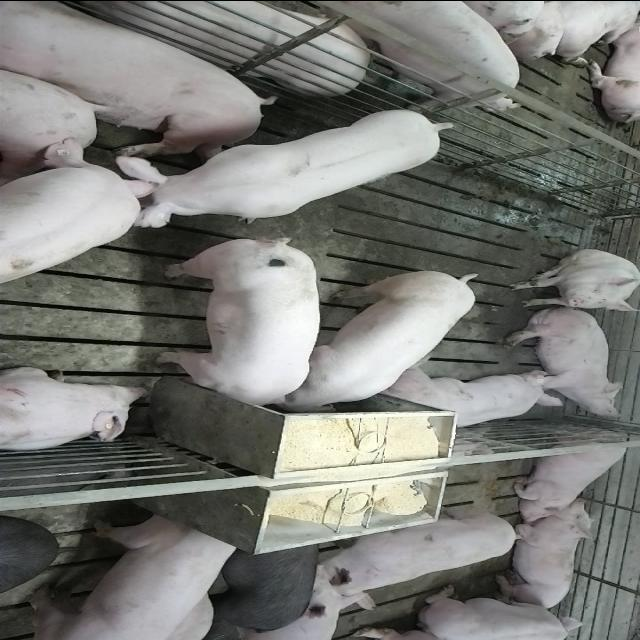Feeding: (276, 264, 480, 412), (154, 242, 322, 416)
Lateral_lying: (0, 5, 273, 160), (502, 304, 628, 418)
Sitting: (502, 422, 636, 513), (506, 248, 638, 311)
Standing: (102, 105, 451, 227), (28, 0, 370, 92), (22, 514, 245, 638), (306, 0, 528, 110), (310, 512, 529, 608), (0, 152, 150, 286), (200, 543, 324, 636)
Sternal_lying: (0, 365, 151, 453), (381, 368, 567, 431), (493, 508, 598, 610), (414, 584, 596, 638)
